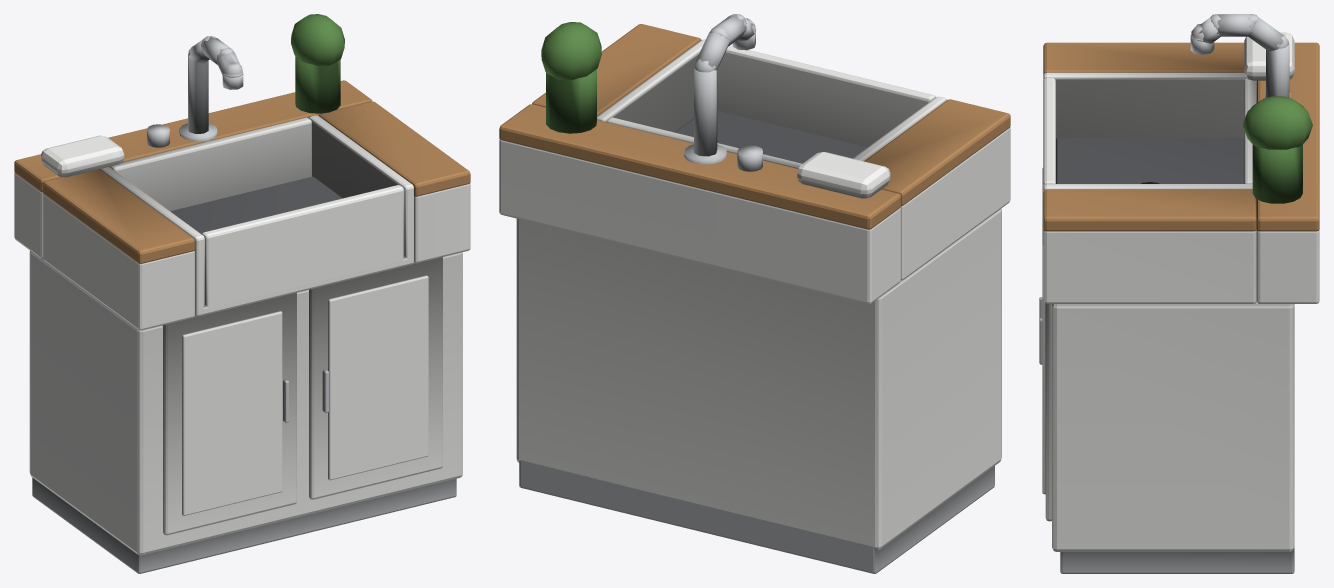
File: farmhouseSink.glb
3 views of the same model, side by side, from view 1: azimuth 30°, elevation 25°; view 2: azimuth 150°, elevation 25°; view 3: azimuth 270°, elevation 25° (orthographic). The views are drawn at different scales.
Visible parts, largest first — view 1: body; view 2: body; view 3: body.
Boxes of the visible parts, bbox=[...] form: body: bbox=[14, 14, 470, 573]; body: bbox=[499, 14, 1010, 573]; body: bbox=[1039, 14, 1319, 573].
Size of the model in its own units: 1 by 1.25 by 0.67.
